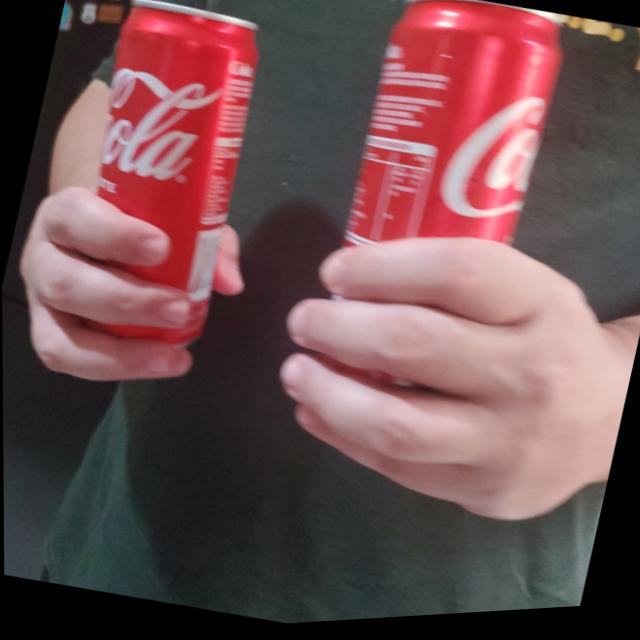coke: (310, 0, 572, 412), (52, 0, 276, 328)
